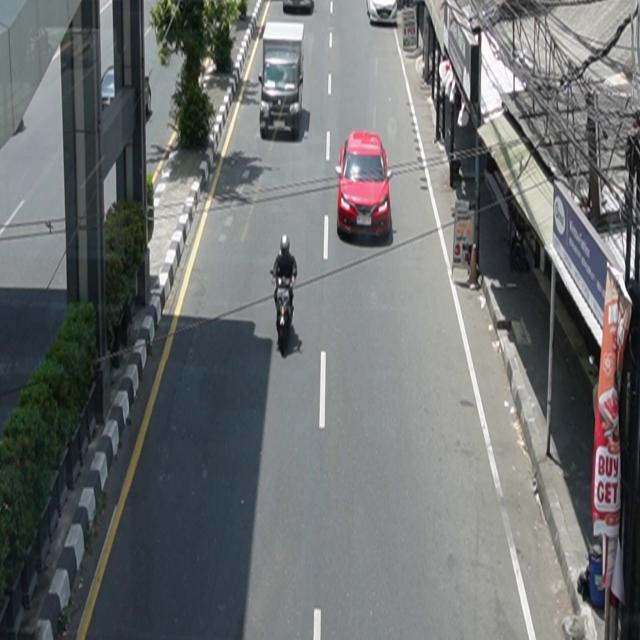car: (336, 131, 393, 240), (367, 1, 398, 26)
truck: (259, 23, 306, 141)
